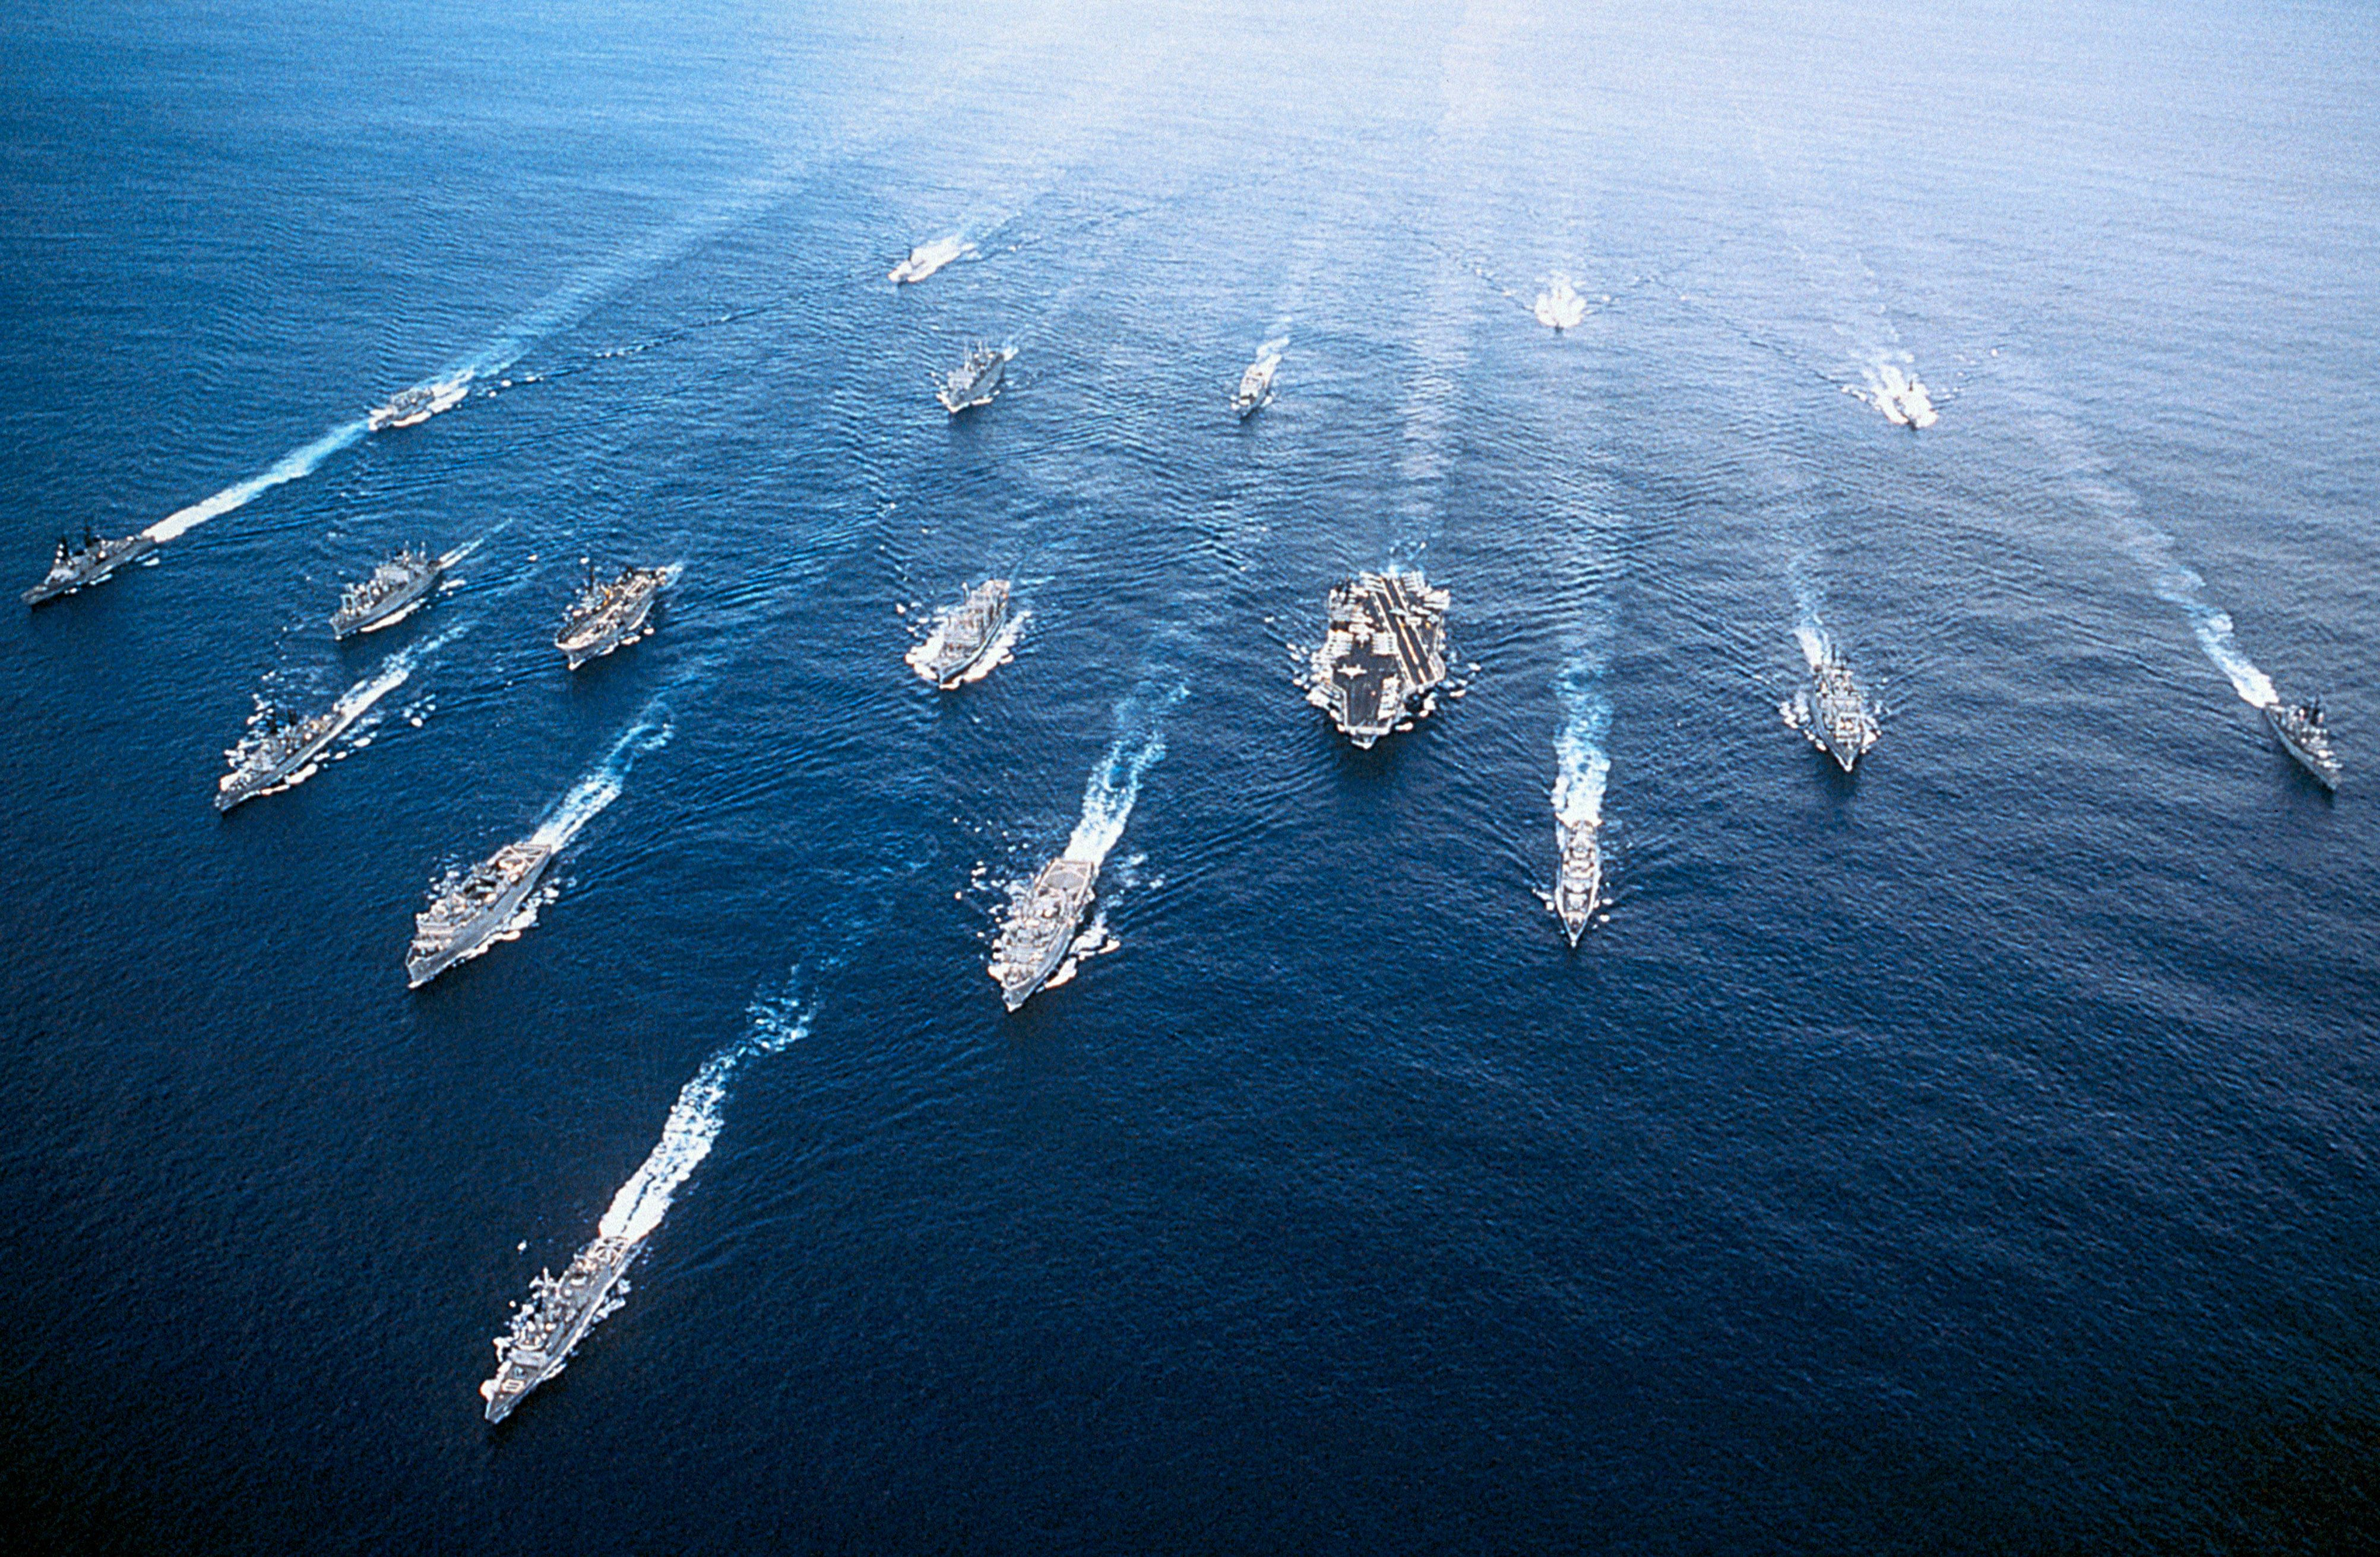ship: (952, 845, 1150, 1041), (1287, 577, 1458, 777), (469, 1255, 643, 1437), (389, 799, 533, 1010), (532, 560, 691, 679), (210, 693, 340, 824), (898, 586, 1037, 702), (23, 532, 165, 617), (1548, 831, 1621, 968), (1798, 659, 1871, 796), (2264, 688, 2337, 808), (353, 374, 488, 436), (318, 573, 459, 633), (929, 348, 1030, 419), (1220, 361, 1298, 436), (883, 250, 983, 297), (1520, 294, 1607, 346), (1888, 382, 1944, 436)
